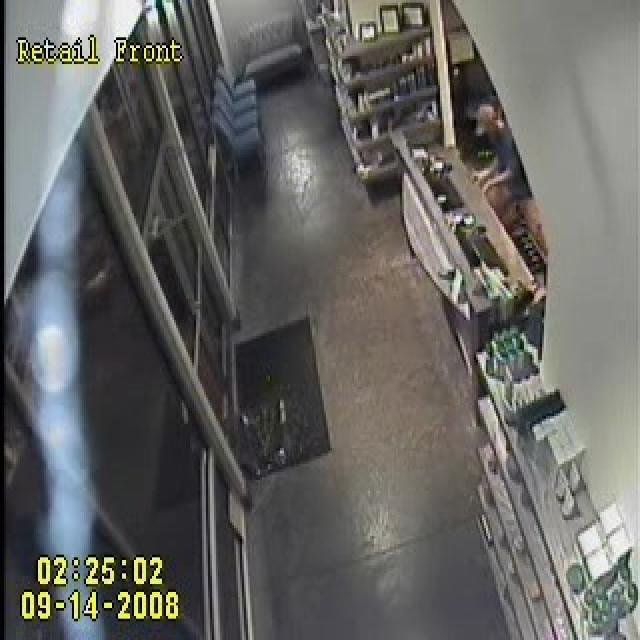thief: (474, 100, 520, 206)
